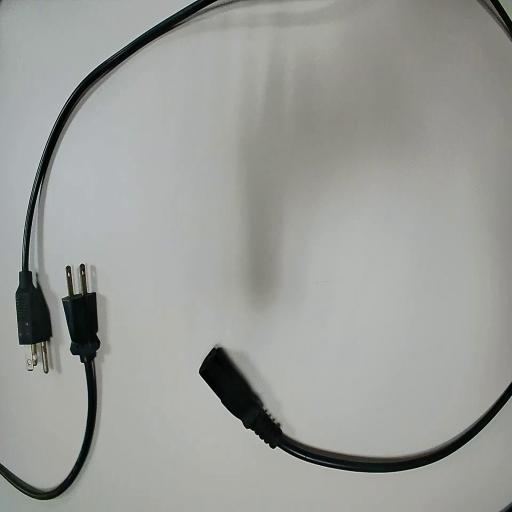wire: (17, 0, 214, 344), (200, 348, 511, 471), (0, 276, 99, 498)
